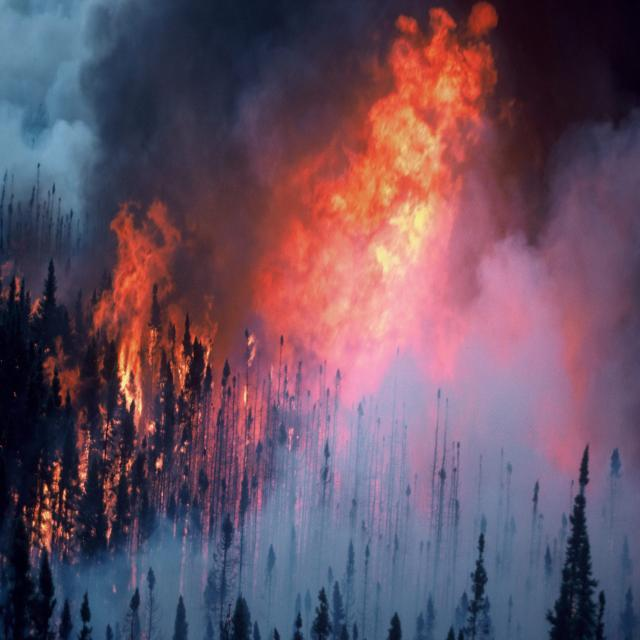Fire: (0, 15, 600, 572)
Smoke: (3, 0, 640, 366)
